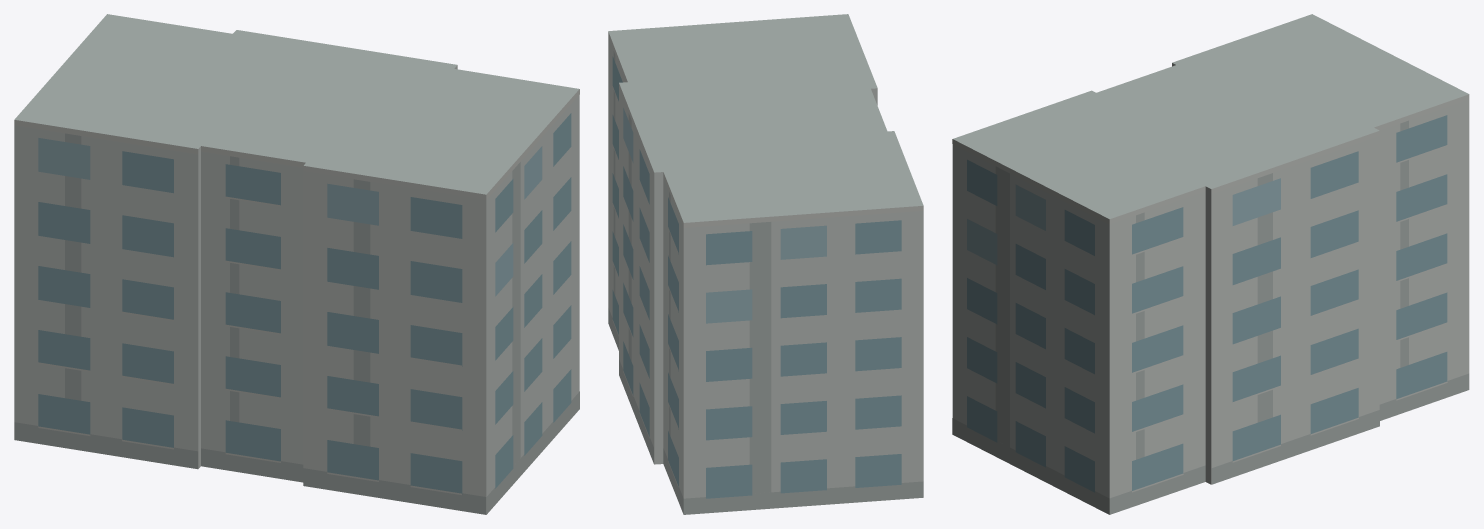
The model's file is survey-upis-32843197.glb.
3 renders of one model, left to right at view 1: azimuth 30°, elevation 25°; view 2: azimuth 150°, elevation 25°; view 3: azimuth 270°, elevation 25°, orthographic. The views are drawn at different scales.
Parts seen in each view (by area): view 1: survey-upis-32843197.tmp; view 2: survey-upis-32843197.tmp; view 3: survey-upis-32843197.tmp.
Boxes of the visible parts, x1,y1,x2,y2 form: survey-upis-32843197.tmp: (14,14,579,514); survey-upis-32843197.tmp: (608,14,923,514); survey-upis-32843197.tmp: (952,14,1469,514).
Bounding box in the file's own units: 20.71 × 13.9 × 22.03.
